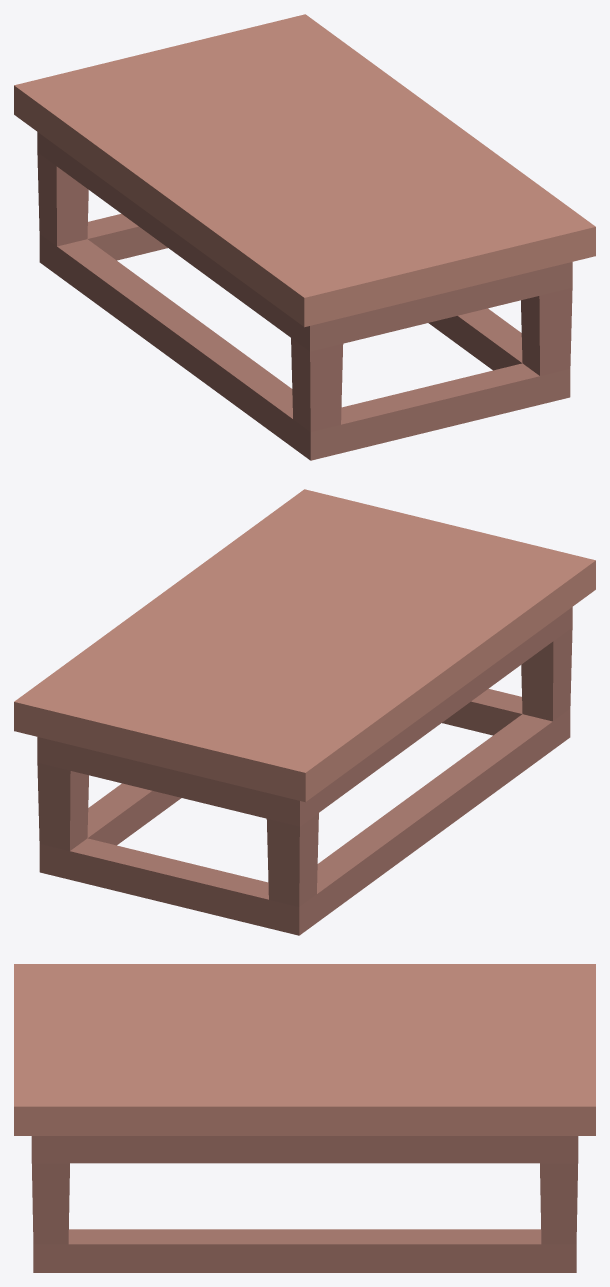
File: CoffeeTable2.glb
The picture shows the model from 3 angles, top to bottom: view 1: azimuth 30°, elevation 25°; view 2: azimuth 150°, elevation 25°; view 3: azimuth 270°, elevation 25°; orthographic projection.
Parts seen in each view (by area): view 1: Wood.008, DarkWood.006; view 2: Wood.008, DarkWood.006; view 3: Wood.008, DarkWood.006.
Part boxes in pixels (box(x1,y1,x2,y2)): Wood.008: box(14, 14, 595, 327); DarkWood.006: box(37, 132, 572, 460); Wood.008: box(14, 489, 595, 802); DarkWood.006: box(37, 607, 572, 935); Wood.008: box(14, 964, 595, 1135); DarkWood.006: box(31, 1136, 578, 1272).
Bounding box in the file's own units: 0.5889 × 0.3354 × 1.02.
